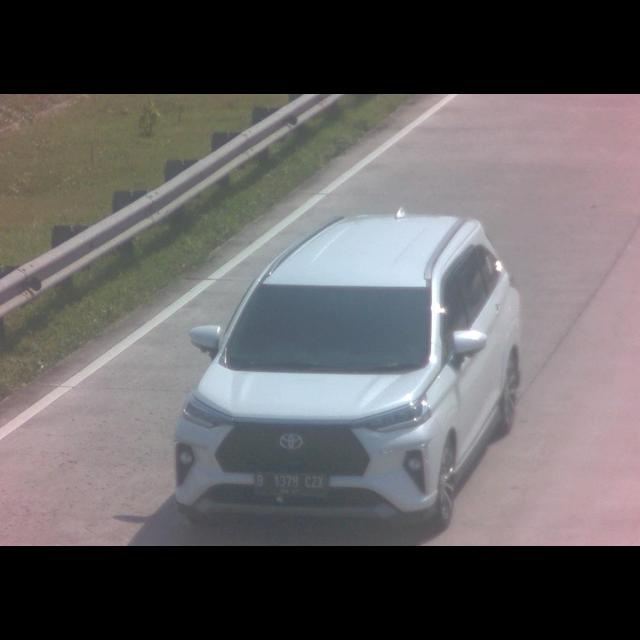plate: (253, 472, 330, 496)
